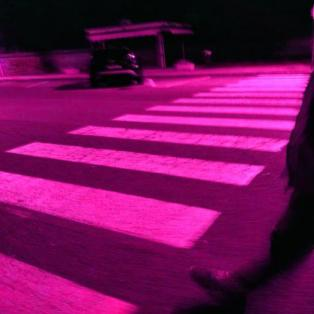Paso de Cebra: (64, 112, 300, 156)
